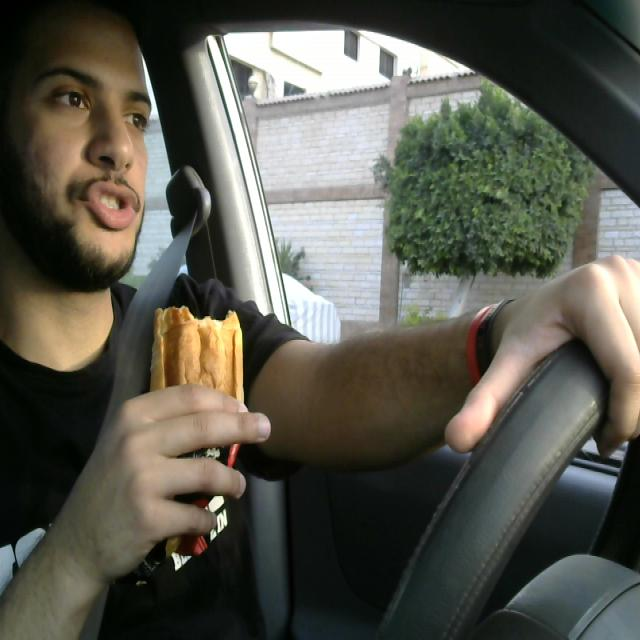eating: (154, 308, 242, 501)
